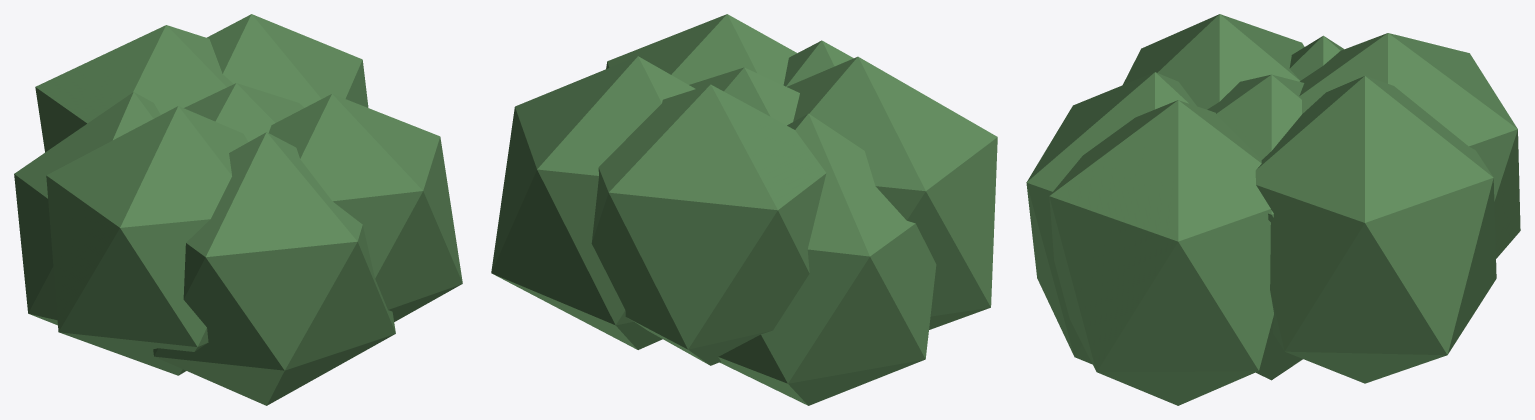
File: Environment_Bush_Roadside.fbx
3 renders of one model, left to right at view 1: azimuth 30°, elevation 25°; view 2: azimuth 150°, elevation 25°; view 3: azimuth 270°, elevation 25°, orthographic. The views are drawn at different scales.
Parts seen in each view (by area): view 1: Bush_Leaf_Cluster_6, Bush_Leaf_Cluster_5, Bush_Leaf_Cluster_7, Bush_Leaf_Cluster_3, Bush_Leaf_Cluster_2, Bush_Leaf_Cluster_4, Bush_Leaf_Cluster_1; view 2: Bush_Leaf_Cluster_3, Bush_Leaf_Cluster_4, Bush_Leaf_Cluster_2, Bush_Leaf_Cluster_5, Bush_Leaf_Cluster_7, Bush_Leaf_Cluster_1, Bush_Leaf_Cluster_6; view 3: Bush_Leaf_Cluster_2, Bush_Leaf_Cluster_7, Bush_Leaf_Cluster_3, Bush_Leaf_Cluster_6, Bush_Leaf_Cluster_5, Bush_Leaf_Cluster_1, Bush_Leaf_Cluster_4.
Part boxes in pixels (x1,y1,x2,y2): Bush_Leaf_Cluster_6: (153,132,395,405); Bush_Leaf_Cluster_5: (46,106,248,375); Bush_Leaf_Cluster_7: (269,94,462,321); Bush_Leaf_Cluster_3: (35,25,233,152); Bush_Leaf_Cluster_2: (207,14,368,107); Bush_Leaf_Cluster_4: (14,92,160,325); Bush_Leaf_Cluster_1: (184,83,304,141); Bush_Leaf_Cluster_3: (591,84,826,365); Bush_Leaf_Cluster_4: (718,113,936,405); Bush_Leaf_Cluster_2: (491,56,695,349); Bush_Leaf_Cluster_5: (787,56,997,329); Bush_Leaf_Cluster_7: (606,14,796,85); Bush_Leaf_Cluster_1: (689,67,799,125); Bush_Leaf_Cluster_6: (783,40,853,86); Bush_Leaf_Cluster_2: (1255,76,1496,383); Bush_Leaf_Cluster_7: (1049,100,1276,405); Bush_Leaf_Cluster_3: (1299,33,1520,258); Bush_Leaf_Cluster_6: (1026,72,1196,364); Bush_Leaf_Cluster_5: (1123,14,1304,109); Bush_Leaf_Cluster_1: (1207,74,1304,380); Bush_Leaf_Cluster_4: (1289,35,1343,80).
Bounding box in the file's own units: 1.4 × 1.12 × 1.41.
